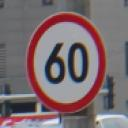speed_limit_60: (26, 12, 106, 115)
